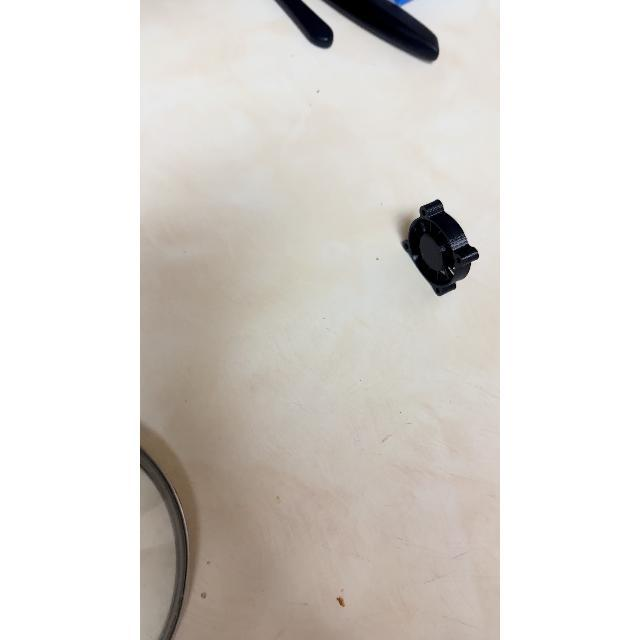Pieza4: (379, 188, 488, 314)
